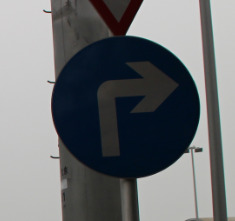right_turn: (51, 35, 199, 177)
